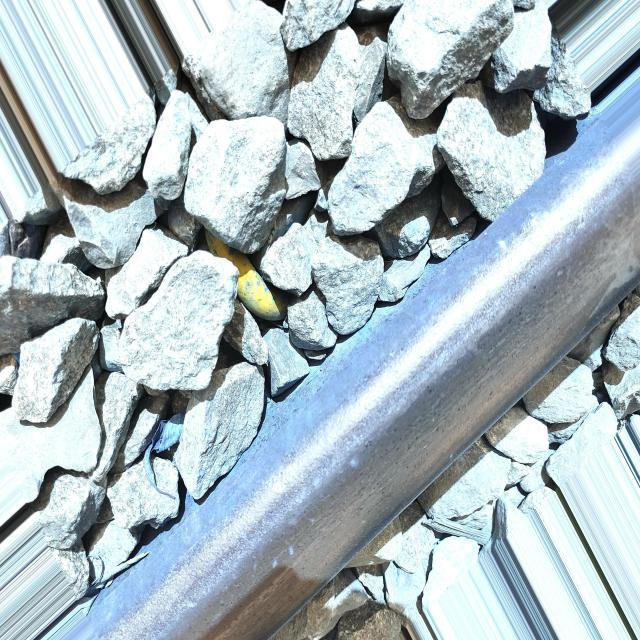squats_high: (272, 544, 295, 568), (286, 512, 300, 526), (350, 456, 360, 472), (309, 514, 316, 524)
